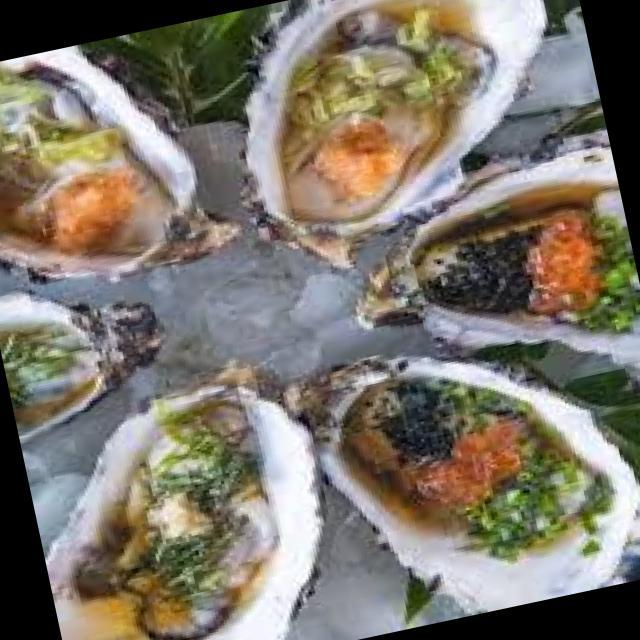Oyster-Open: (291, 356, 640, 613), (246, 0, 545, 234), (48, 386, 322, 640), (358, 131, 640, 369), (0, 49, 208, 280), (0, 283, 160, 428)
